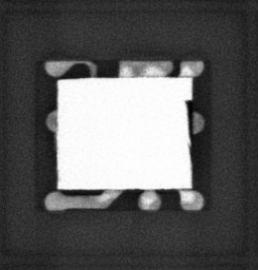DIE_BROKEN: (183, 98, 196, 163)
